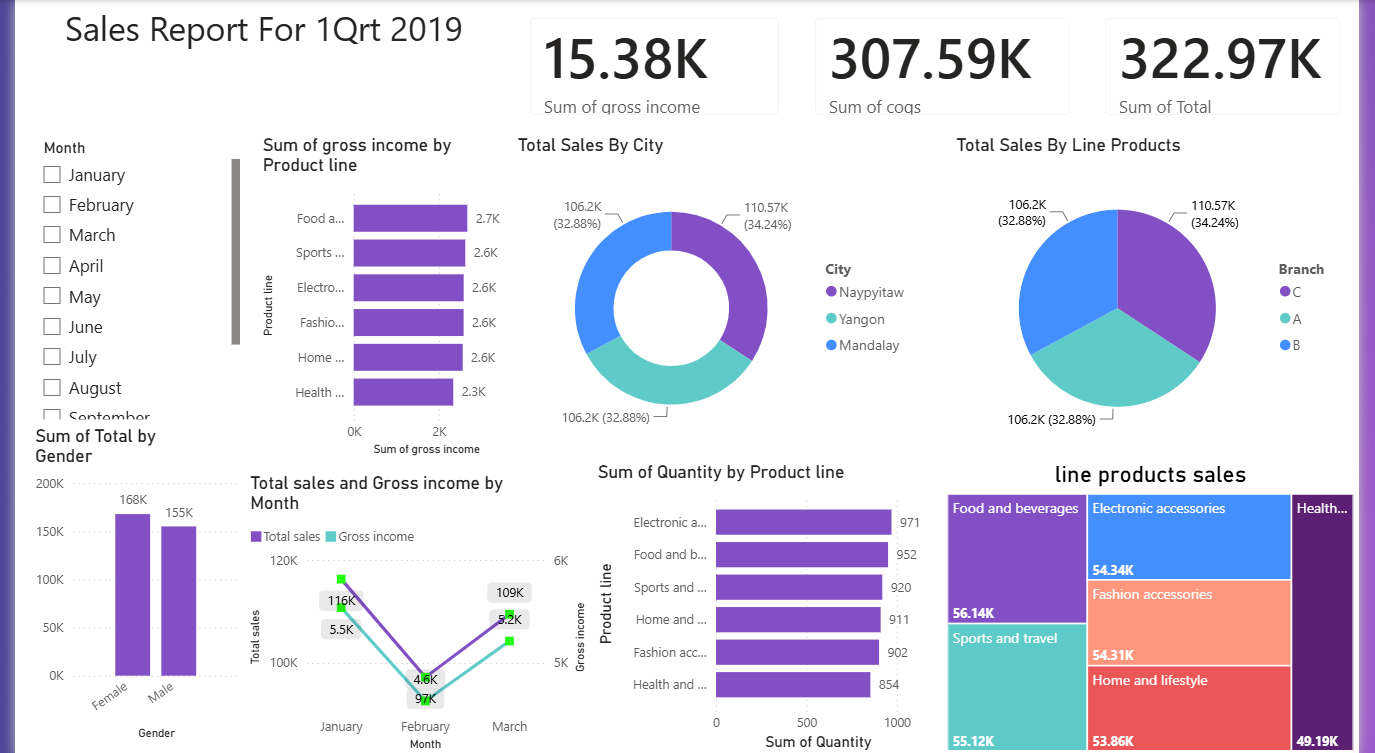

This screenshot's page, from the dashboard's own definition file:
{"tool":"powerbi","page":{"name":"Page 1","canvas":[1280,720],"ordinal":0},"visuals":[{"type":"cardVisual","fields":{"Data":["Sum(supermarket_sales - Sheet1.Total)"]},"box":[1021.4,0,258.3,127.4],"z":0},{"type":"cardVisual","fields":{"Data":["Sum(supermarket_sales - Sheet1.cogs)"]},"box":[745.2,0,276.2,127.4],"z":1000},{"type":"cardVisual","fields":{"Data":["Sum(supermarket_sales - Sheet1.gross income)"]},"box":[473.8,0,271.4,127.4],"z":2000},{"type":"pieChart","title":"Total Sales By Line Products","fields":{"Category":["supermarket_sales - Sheet1.Branch"],"Y":["Sum(supermarket_sales - Sheet1.Total)"]},"box":[891.7,127.4,379.8,311.9],"z":3000},{"type":"donutChart","title":"Total Sales By City","fields":{"Category":["supermarket_sales - Sheet1.City"],"Y":["Sum(supermarket_sales - Sheet1.Total)"]},"box":[473.8,127.4,386.9,311.9],"z":4000},{"type":"treemap","title":"line products sales","fields":{"Group":["supermarket_sales - Sheet1.Product line"],"Values":["Sum(supermarket_sales - Sheet1.Total)"]},"box":[883.3,439.3,396.4,281],"z":5000},{"type":"clusteredColumnChart","fields":{"Category":["supermarket_sales - Sheet1.Gender"],"Y":["Sum(supermarket_sales - Sheet1.Total)"]},"box":[14.3,404.8,204.8,304.8],"z":5001},{"type":"slicer","fields":{"Values":["supermarket_sales - Sheet1.Date.Variation.Date Hierarchy.Month"]},"box":[14.3,127.4,204.8,277.4],"z":5004},{"type":"lineChart","fields":{"Category":["supermarket_sales - Sheet1.Date.Variation.Date Hierarchy.Month"],"Y":["Sum(supermarket_sales - Sheet1.Total)"],"Y2":["Sum(supermarket_sales - Sheet1.gross income)"]},"box":[219,450,331,270.2],"z":5005},{"type":"clusteredBarChart","fields":{"Y":["Sum(supermarket_sales - Sheet1.gross income)"],"Category":["supermarket_sales - Sheet1.Product line"]},"box":[231,127.4,242.9,311.9],"z":5006},{"type":"clusteredBarChart","fields":{"Category":["supermarket_sales - Sheet1.Product line"],"Y":["Sum(supermarket_sales - Sheet1.Quantity)"]},"box":[550,439.3,331,281],"z":5007},{"type":"textbox","box":[0,0,473.8,127.4],"z":5008}]}

Visuals, with their boxes in screenshot pixels (x1, y1, x2, y2), scaled from the page's 1280x720 canvas onto the 1375x753 screenshot:
cardVisual - Sum(supermarket_sales - Sheet1.Total): select_region(1097, 0, 1374, 133)
cardVisual - Sum(supermarket_sales - Sheet1.cogs): select_region(801, 0, 1097, 133)
cardVisual - Sum(supermarket_sales - Sheet1.gross income): select_region(509, 0, 801, 133)
"Total Sales By Line Products" pieChart: select_region(958, 133, 1366, 459)
"Total Sales By City" donutChart: select_region(509, 133, 925, 459)
"line products sales" treemap: select_region(949, 459, 1374, 752)
clusteredColumnChart - supermarket_sales - Sheet1.Gender x Sum(supermarket_sales - Sheet1.Total): select_region(15, 423, 235, 742)
slicer - supermarket_sales - Sheet1.Date.Variation.Date Hierarchy.Month: select_region(15, 133, 235, 423)
lineChart - supermarket_sales - Sheet1.Date.Variation.Date Hierarchy.Month x Sum(supermarket_sales - Sheet1.Total): select_region(235, 471, 591, 752)
clusteredBarChart - Sum(supermarket_sales - Sheet1.gross income) x supermarket_sales - Sheet1.Product line: select_region(248, 133, 509, 459)
clusteredBarChart - supermarket_sales - Sheet1.Product line x Sum(supermarket_sales - Sheet1.Quantity): select_region(591, 459, 946, 752)
textbox: select_region(0, 0, 509, 133)
